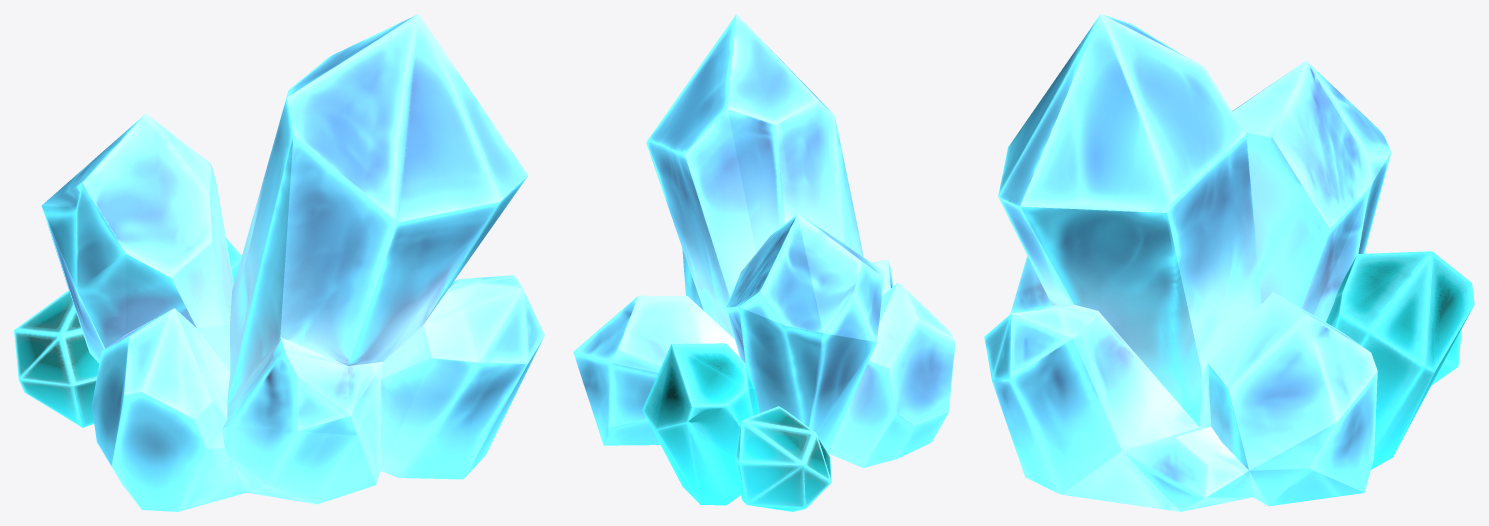
The model's file is crystal_chunk_002.fbx.
The picture shows the model from 3 angles, left to right: view 1: azimuth 30°, elevation 25°; view 2: azimuth 150°, elevation 25°; view 3: azimuth 270°, elevation 25°; orthographic projection. The views are drawn at different scales.
Parts seen in each view (by area): view 1: crystal_chunk.002; view 2: crystal_chunk.002; view 3: crystal_chunk.002.
Boxes of the visible parts, box(x1,y1,x2,y2) form: crystal_chunk.002: box(14, 14, 544, 511); crystal_chunk.002: box(573, 14, 955, 511); crystal_chunk.002: box(984, 14, 1474, 511).
Bounding box in the file's own units: 12.17 × 13.58 × 12.22.
